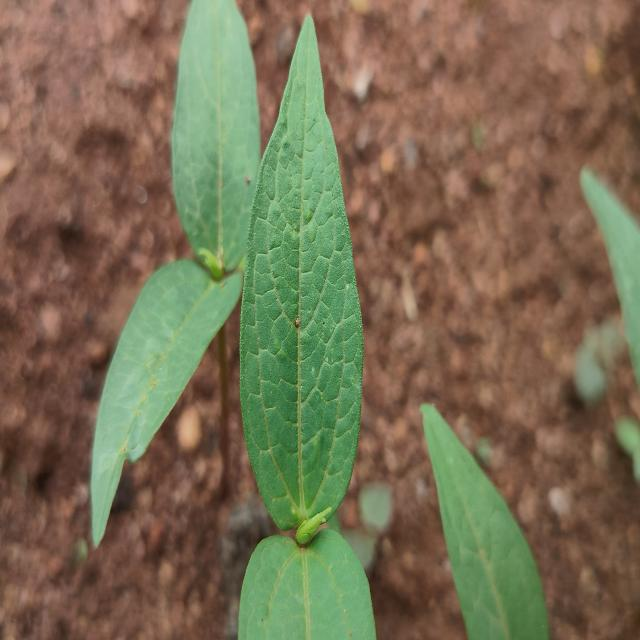Black gram_healthy: (239, 16, 363, 536), (92, 260, 238, 544), (422, 403, 548, 638), (171, 0, 261, 264), (237, 523, 376, 640)
